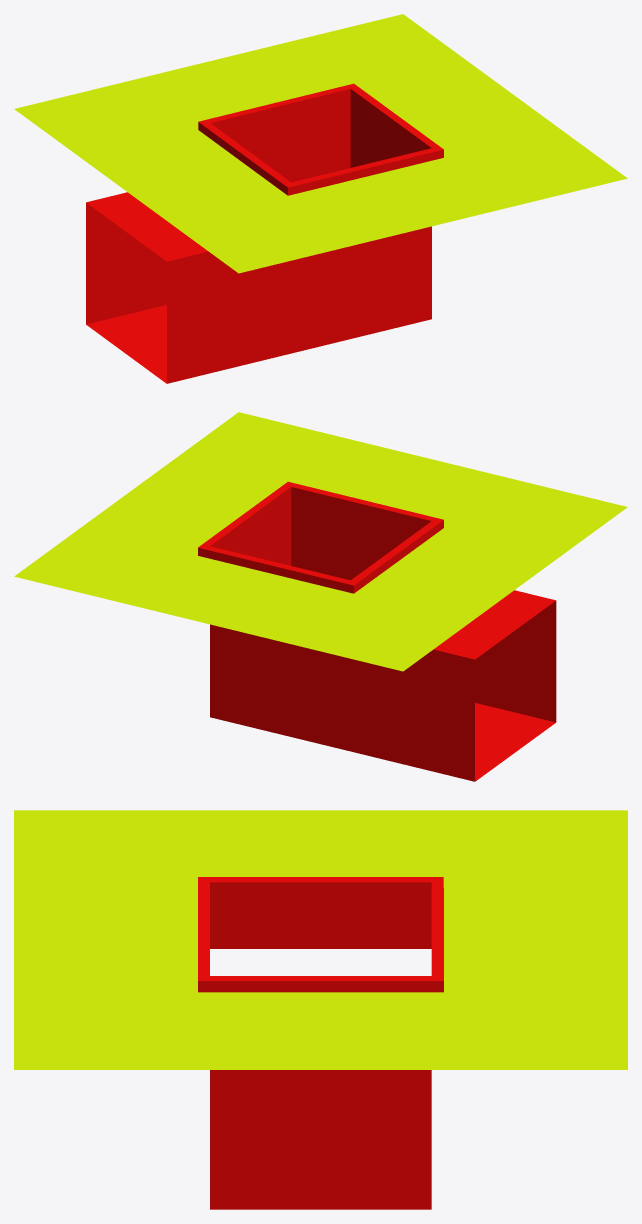
Rendered from CeilingVent.fbx.
The picture shows the model from 3 angles, top to bottom: view 1: azimuth 30°, elevation 25°; view 2: azimuth 150°, elevation 25°; view 3: azimuth 270°, elevation 25°; orthographic projection. The views are drawn at different scales.
Visible parts, largest first — view 1: CeilingVent; view 2: CeilingVent; view 3: CeilingVent.
Boxes of the visible parts, <box> form: CeilingVent: <box>14,14,627,383</box>; CeilingVent: <box>14,412,627,781</box>; CeilingVent: <box>14,810,627,1209</box>.
Size of the model in its own units: 5 by 2.1 by 5.
